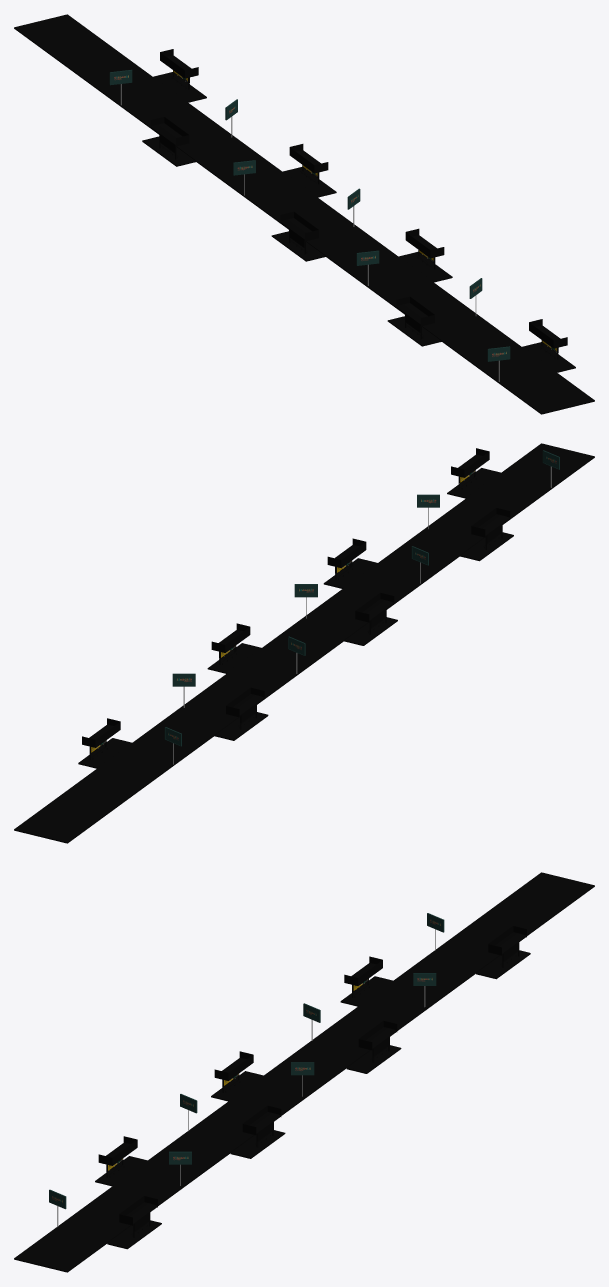
The model's file is trial.glb.
The picture shows the model from 3 angles, top to bottom: view 1: azimuth 30°, elevation 25°; view 2: azimuth 150°, elevation 25°; view 3: azimuth 330°, elevation 25°; orthographic projection.
Parts seen in each view (by area): view 1: Plane003, Rectangle486, Rectangle484, Rectangle482, Rectangle483, Rectangle485, Rectangle481, Rectangle487; view 2: Plane003, Rectangle484, Rectangle482, Rectangle486, Rectangle485, Rectangle483, Rectangle481, Rectangle487; view 3: Plane003, Rectangle483, Rectangle485, Rectangle481, Rectangle487, Rectangle482, Rectangle484, Rectangle486.
Boxes of the visible parts, x1,y1,x2,y2 form: Plane003: (14,14,594,414); Rectangle486: (142,116,195,166); Rectangle484: (271,211,325,261); Rectangle482: (387,296,441,346); Rectangle483: (399,228,452,282); Rectangle485: (283,144,336,197); Rectangle481: (522,319,575,372); Rectangle487: (153,49,206,102); Plane003: (14,443,594,843); Rectangle484: (344,592,397,645); Rectangle482: (460,508,513,561); Rectangle486: (214,687,268,740); Rectangle485: (207,623,261,673); Rectangle483: (323,538,377,588); Rectangle481: (447,448,500,498); Rectangle487: (78,718,131,768); Plane003: (14,872,594,1272); Rectangle483: (230,1105,285,1158); Rectangle485: (346,1020,401,1073); Rectangle481: (107,1196,161,1249); Rectangle487: (476,926,530,979); Rectangle482: (95,1136,147,1186); Rectangle484: (211,1051,263,1101); Rectangle486: (340,956,392,1006).
Bounding box in the file's own units: 16.7 × 6.11 × 164.
Materials: 12 (2 with a texture image).
